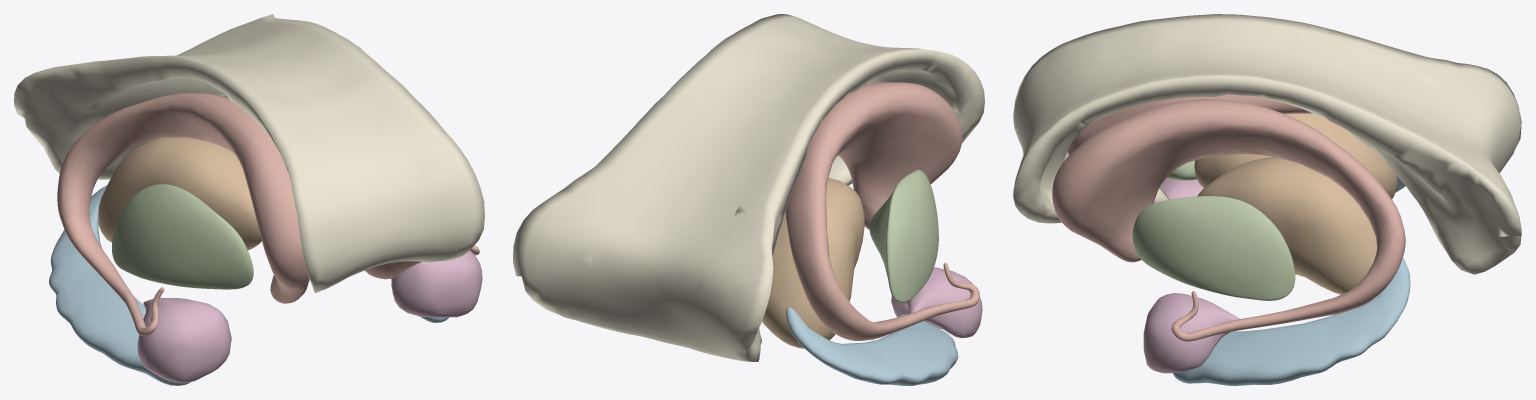
Rendered from brain-core-balanced.glb.
3 views of the same model, side by side, from view 1: azimuth 30°, elevation 25°; view 2: azimuth 150°, elevation 25°; view 3: azimuth 270°, elevation 25° (orthographic). The views are drawn at different scales.
Visible parts, largest first — view 1: za.corpus-callosum, za.caudate-nucleus-r, za.globus-pallidus-r, za.thalamus-r, za.hippocampus-r, za.amygdaloid-body-r, za.amygdaloid-body-l, za.caudate-nucleus-l; view 2: za.corpus-callosum, za.caudate-nucleus-r, za.hippocampus-r, za.thalamus-r, za.globus-pallidus-r, za.amygdaloid-body-r; view 3: za.corpus-callosum, za.caudate-nucleus-l, za.globus-pallidus-l, za.thalamus-l, za.hippocampus-l, za.amygdaloid-body-l, za.thalamus-r, za.caudate-nucleus-r, za.amygdaloid-body-r.
Boxes of the visible parts, bbox=[...] form: za.corpus-callosum: bbox=[14, 14, 484, 293]; za.caudate-nucleus-r: bbox=[57, 93, 309, 336]; za.globus-pallidus-r: bbox=[112, 184, 253, 289]; za.thalamus-r: bbox=[98, 137, 261, 250]; za.hippocampus-r: bbox=[49, 185, 190, 385]; za.amygdaloid-body-r: bbox=[137, 297, 231, 382]; za.amygdaloid-body-l: bbox=[391, 250, 482, 317]; za.caudate-nucleus-l: bbox=[365, 245, 479, 279]; za.corpus-callosum: bbox=[513, 14, 984, 361]; za.caudate-nucleus-r: bbox=[785, 82, 979, 340]; za.hippocampus-r: bbox=[786, 307, 958, 385]; za.thalamus-r: bbox=[762, 178, 864, 348]; za.globus-pallidus-r: bbox=[869, 169, 938, 303]; za.amygdaloid-body-r: bbox=[891, 267, 982, 338]; za.corpus-callosum: bbox=[1013, 14, 1521, 274]; za.caudate-nucleus-l: bbox=[1052, 99, 1405, 341]; za.globus-pallidus-l: bbox=[1132, 196, 1295, 300]; za.thalamus-l: bbox=[1198, 157, 1376, 294]; za.hippocampus-l: bbox=[1173, 258, 1410, 385]; za.amygdaloid-body-l: bbox=[1143, 293, 1239, 373]; za.thalamus-r: bbox=[1194, 113, 1397, 198]; za.caudate-nucleus-r: bbox=[1067, 94, 1312, 154]; za.amygdaloid-body-r: bbox=[1159, 178, 1203, 199].
Size of the model in its own units: 0.0724 by 0.0523 by 0.0888.
